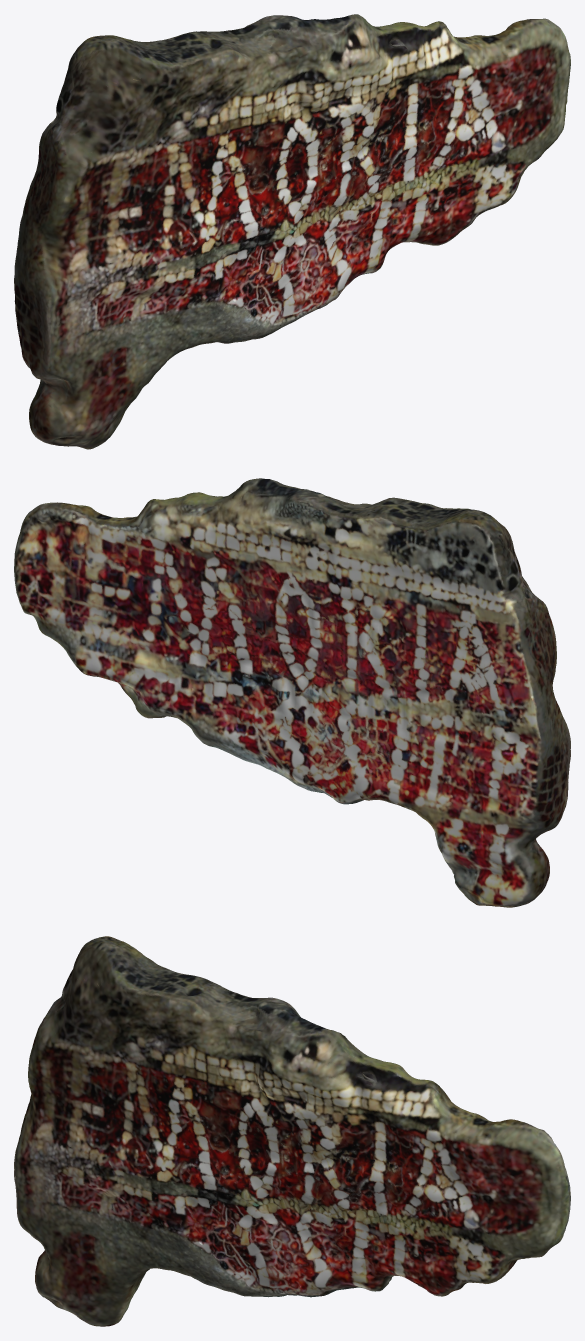
File: primary-compressed.glb
3 renders of one model, top to bottom at view 1: azimuth 30°, elevation 25°; view 2: azimuth 150°, elevation 25°; view 3: azimuth 330°, elevation 25°, orthographic. The views are drawn at different scales.
Size of the model in its own units: 2 by 1.39 by 0.2555.
1 material, 1 textured.
